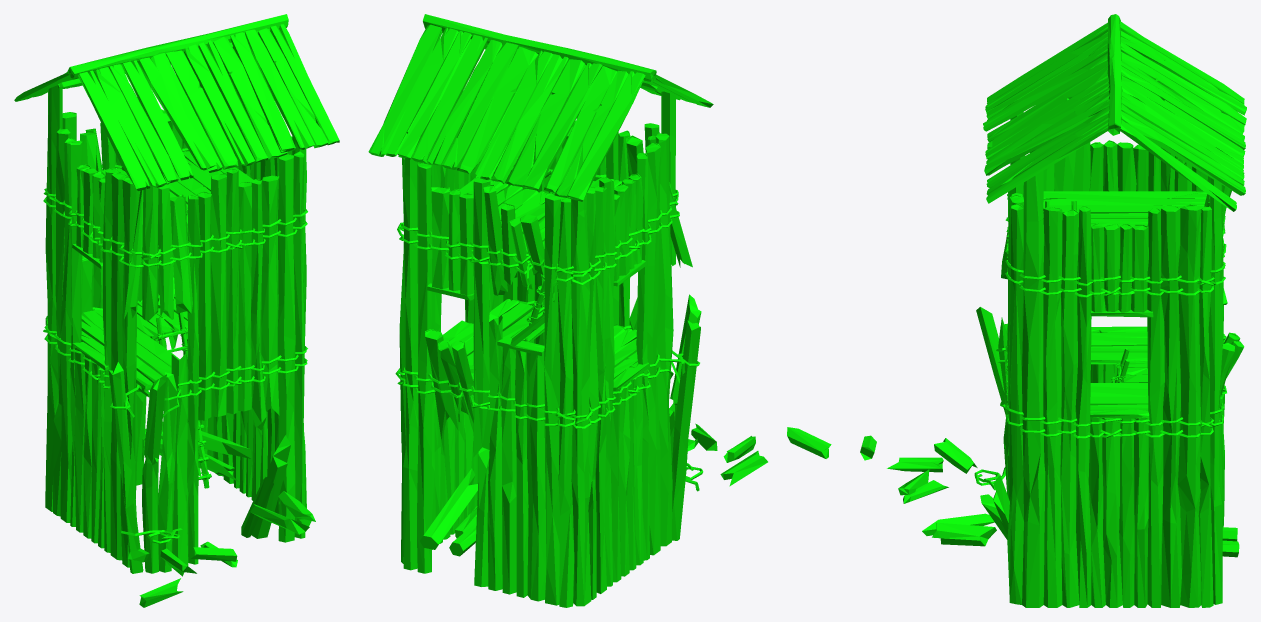
Rendered from SM_Palisade_Tower_A_Broken_A.fbx.
3 renders of one model, left to right at view 1: azimuth 30°, elevation 25°; view 2: azimuth 150°, elevation 25°; view 3: azimuth 270°, elevation 25°, orthographic. The views are drawn at different scales.
Visible parts, largest first — view 1: palisade-tower-a-broken-a; view 2: palisade-tower-a-broken-a; view 3: palisade-tower-a-broken-a.
Part boxes in pixels (x1,y1,x2,y2): palisade-tower-a-broken-a: (14, 14, 339, 607); palisade-tower-a-broken-a: (368, 14, 831, 607); palisade-tower-a-broken-a: (860, 14, 1246, 607).
Size of the model in its own units: 6.09 by 10.53 by 7.42.
